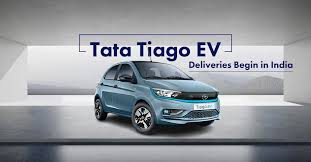Tiago: (92, 60, 223, 136)
